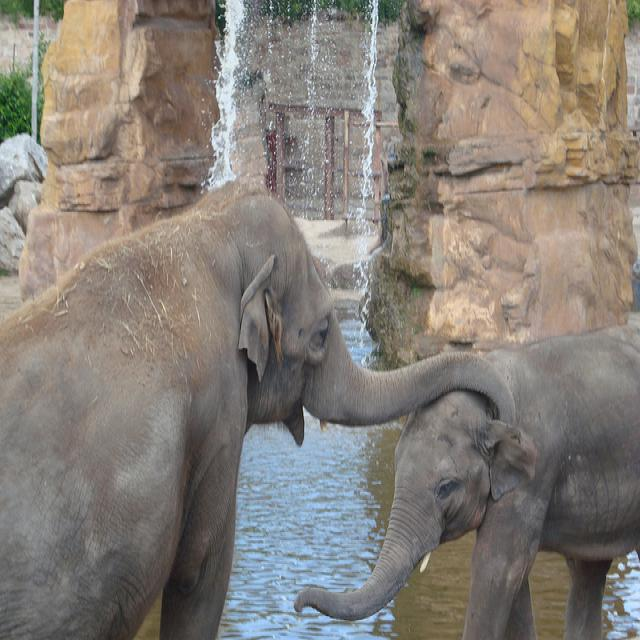Elephant: (0, 181, 516, 639), (293, 321, 639, 639)
